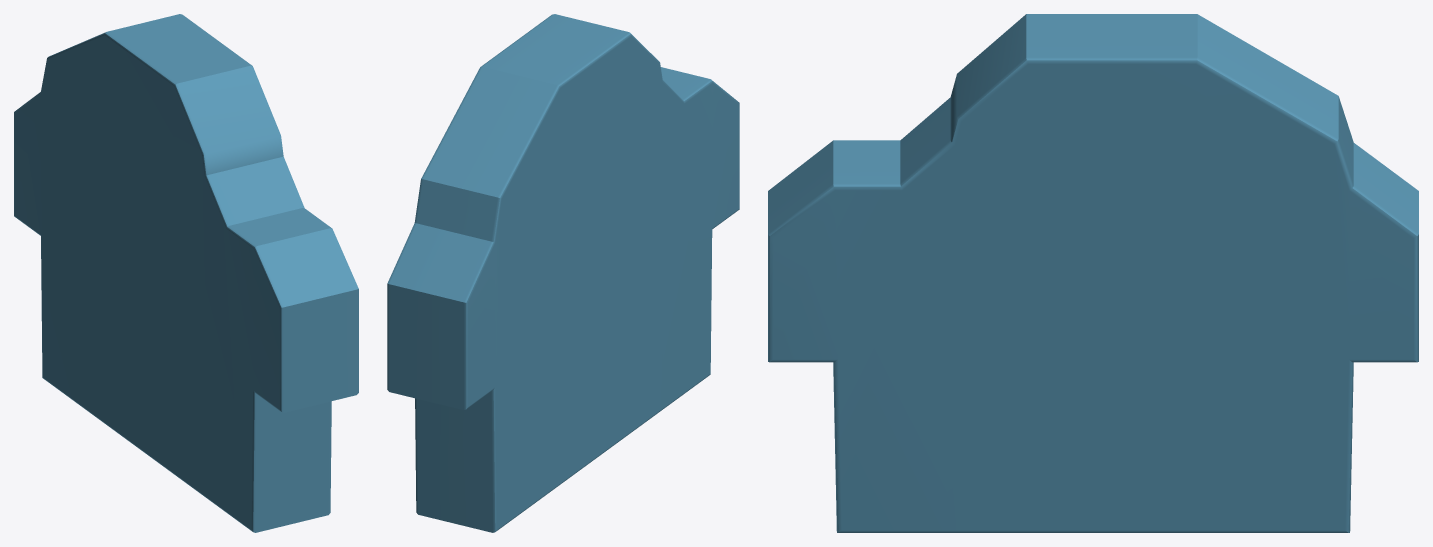
File: Memory.fbx
3 views of the same model, side by side, from view 1: azimuth 30°, elevation 25°; view 2: azimuth 150°, elevation 25°; view 3: azimuth 270°, elevation 25° (orthographic). The views are drawn at different scales.
Visible parts, largest first — view 1: pCube5; view 2: pCube5; view 3: pCube5.
Boxes of the visible parts, x1,y1,x2,y2 form: pCube5: (14, 14, 358, 532); pCube5: (387, 14, 739, 532); pCube5: (768, 14, 1418, 532).
Size of the model in its own units: 7.28 by 34.4 by 42.66.
